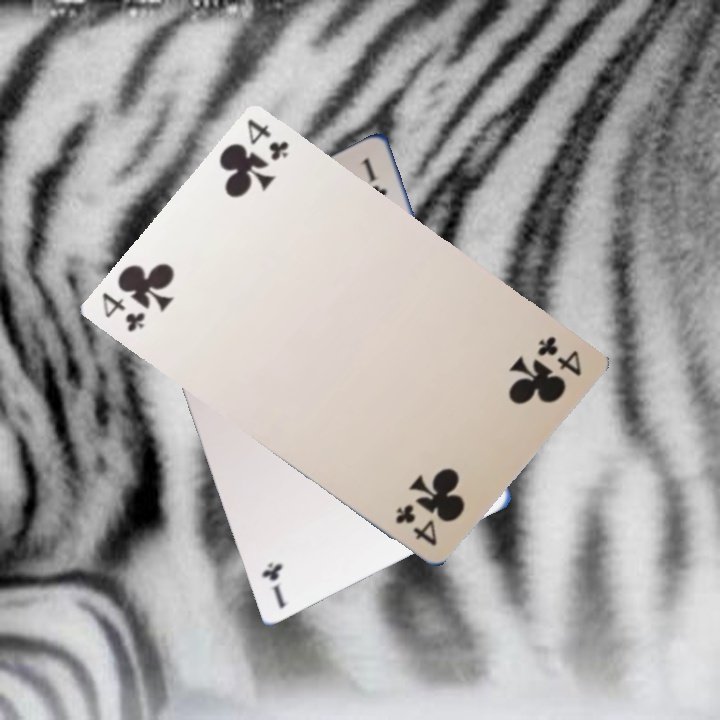1c: (255, 548, 298, 613)
4c: (528, 328, 597, 386), (384, 498, 453, 556), (235, 116, 304, 174), (91, 286, 160, 344)
